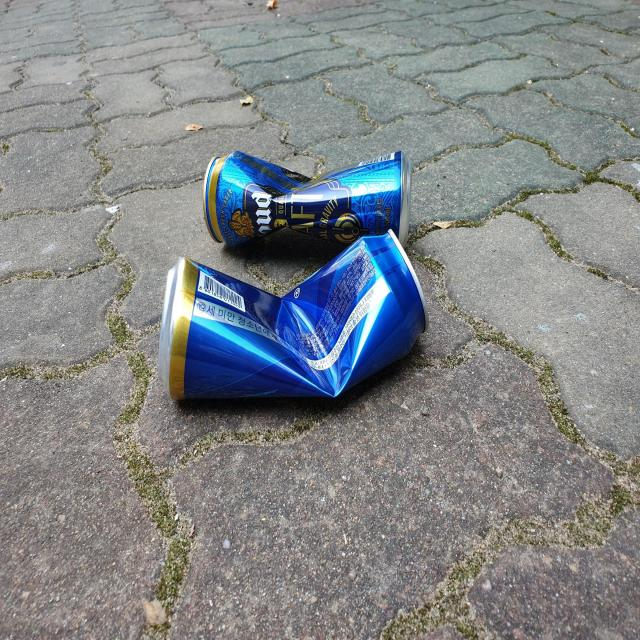can: (158, 232, 428, 400), (203, 150, 411, 248)
